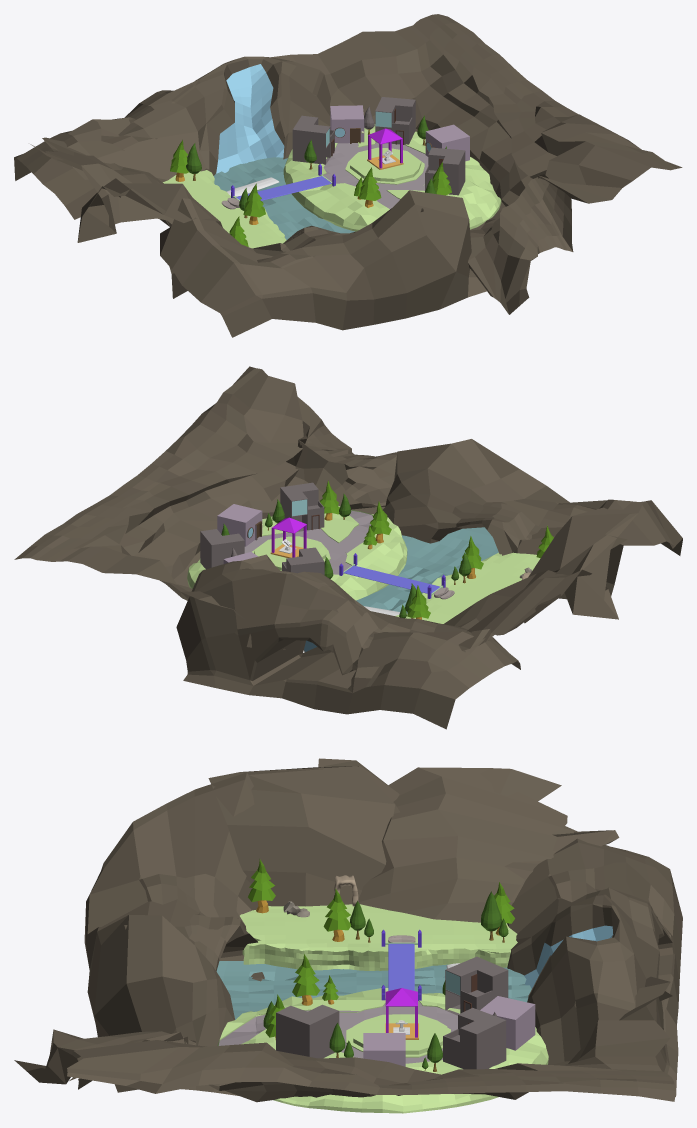
File: CENA3 - CENAVILA-1702.fbx
The picture shows the model from 3 angles, top to bottom: view 1: azimuth 30°, elevation 25°; view 2: azimuth 150°, elevation 25°; view 3: azimuth 270°, elevation 25°; orthographic projection. The views are drawn at different scales.
Parts seen in each view (by area): view 1: Plane.026, Plane.024, Plane.025, Plane.002, Plane.027, Plane.023, Plane.028, Plane.001, Plane.015, Plane.011, Plane.012, Plane.013 (+3 smaller); view 2: Plane.025, Plane.026, Plane.024, Plane.027, Plane.002, Plane.023, Plane.028, Plane.011, Plane.013, Plane.015, Plane.006, Plane.001; view 3: Plane.027, Plane.024, Plane.026, Plane.025, Plane.028, Plane.002, Plane.023, Plane.015, Plane.011, Plane.001, Plane.012, Plane.006 (+6 smaller).
Part boxes in pixels (x1,y1,x2,y2): Plane.026: [271, 14, 682, 314]; Plane.024: [160, 190, 486, 337]; Plane.025: [14, 56, 330, 219]; Plane.002: [283, 124, 501, 231]; Plane.027: [30, 137, 222, 242]; Plane.023: [213, 157, 354, 239]; Plane.028: [163, 170, 286, 248]; Plane.001: [292, 115, 334, 164]; Plane.015: [375, 97, 415, 144]; Plane.011: [425, 147, 465, 195]; Plane.012: [330, 105, 364, 143]; Plane.013: [425, 124, 469, 161]; Plane.025: [176, 554, 520, 729]; Plane.026: [14, 366, 397, 649]; Plane.024: [383, 439, 682, 599]; Plane.027: [443, 501, 642, 652]; Plane.002: [187, 506, 407, 600]; Plane.023: [356, 527, 498, 613]; Plane.028: [395, 552, 540, 623]; Plane.011: [280, 482, 324, 531]; Plane.013: [217, 504, 262, 546]; Plane.015: [200, 529, 244, 569]; Plane.006: [344, 565, 440, 593]; Plane.001: [282, 547, 324, 574]; Plane.027: [208, 758, 619, 922]; Plane.024: [84, 772, 264, 1095]; Plane.026: [14, 976, 676, 1102]; Plane.025: [507, 838, 682, 1096]; Plane.028: [240, 904, 517, 970]; Plane.002: [217, 988, 548, 1113]; Plane.023: [216, 961, 531, 1019]; Plane.015: [443, 1007, 506, 1069]; Plane.011: [276, 1004, 339, 1058]; Plane.001: [445, 956, 508, 1015]; Plane.012: [480, 996, 535, 1050]; Plane.006: [388, 943, 414, 990].
Size of the model in its own units: 18880 by 5153 by 17354.
